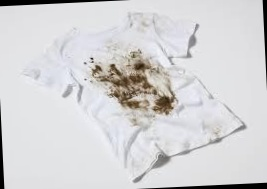earth: (107, 62, 155, 97), (88, 57, 105, 82), (120, 97, 148, 110), (154, 97, 174, 112)
